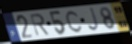2: (16, 14, 34, 40)
5: (48, 10, 67, 37)
8: (99, 7, 117, 30)
C: (65, 10, 84, 34)
J: (88, 7, 101, 32)
R: (28, 12, 50, 37)
